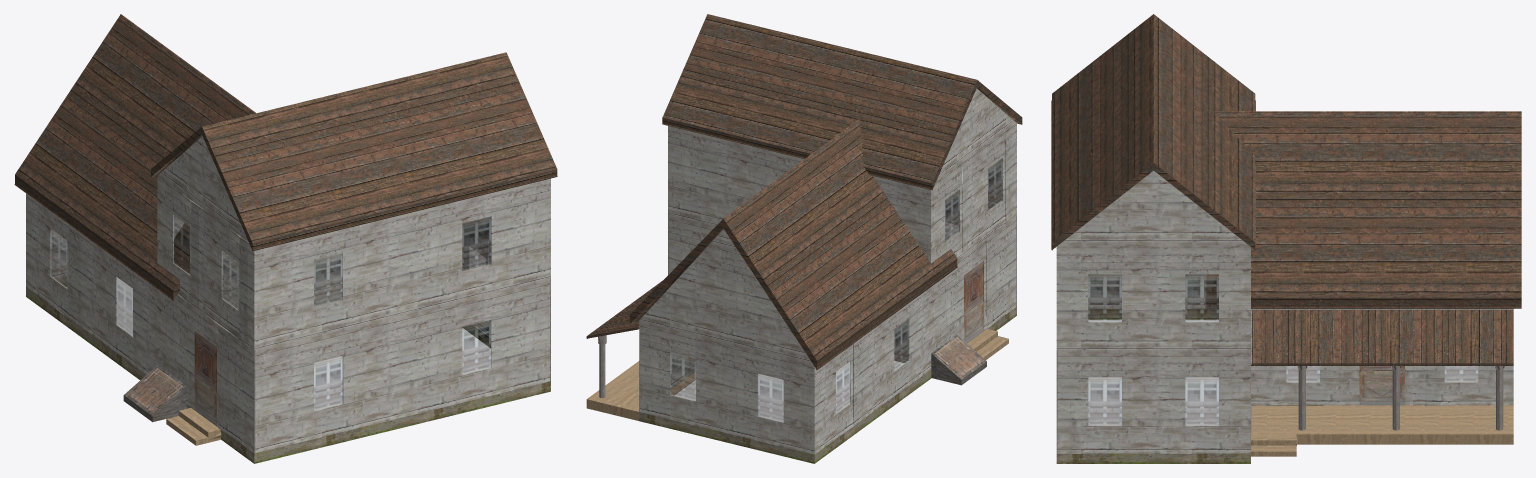
File: House_WithCollision.glb
The picture shows the model from 3 angles, left to right: view 1: azimuth 30°, elevation 25°; view 2: azimuth 150°, elevation 25°; view 3: azimuth 270°, elevation 25°; orthographic projection. The views are drawn at different scales.
Parts seen in each view (by area): view 1: PSX Abandoned House_Wood_0-col, PSX Abandoned House_Roof_0-col, PSX Abandoned House_Window_0-col, PSX Abandoned House_Slab_0-col, PSX Abandoned House_Door_0-col, PSX Abandoned House_BasementDoor_0-col, PSX Abandoned House_OutDoor Wood_0-col, PSX Abandoned House_BasementWood_0-col; view 2: PSX Abandoned House_Roof_0-col, PSX Abandoned House_Wood_0-col, PSX Abandoned House_Window_0-col, PSX Abandoned House_Slab_0-col, PSX Abandoned House_OutDoor Wood_0-col, PSX Abandoned House_Door_0-col, PSX Abandoned House_BasementDoor_0-col, PSX Abandoned House_BasementWood_0-col, PSX Abandoned House_Concrete_0-col; view 3: PSX Abandoned House_Roof_0-col, PSX Abandoned House_Wood_0-col, PSX Abandoned House_OutDoor Wood_0-col, PSX Abandoned House_Window_0-col, PSX Abandoned House_Slab_0-col, PSX Abandoned House_Concrete_0-col, PSX Abandoned House_Door_0-col.
Part boxes in pixels (x1,y1,x2,y2): PSX Abandoned House_Wood_0-col: (26,136,550,453); PSX Abandoned House_Roof_0-col: (14,14,557,300); PSX Abandoned House_Window_0-col: (50,215,491,411); PSX Abandoned House_Slab_0-col: (26,277,550,463); PSX Abandoned House_Door_0-col: (194,331,216,425); PSX Abandoned House_BasementDoor_0-col: (127,367,182,412); PSX Abandoned House_OutDoor Wood_0-col: (166,408,221,445); PSX Abandoned House_BasementWood_0-col: (123,365,186,422); PSX Abandoned House_Roof_0-col: (586,14,1022,370); PSX Abandoned House_Wood_0-col: (639,88,1016,454); PSX Abandoned House_Window_0-col: (670,158,1002,422); PSX Abandoned House_Slab_0-col: (639,307,1016,463); PSX Abandoned House_OutDoor Wood_0-col: (586,329,1008,420); PSX Abandoned House_Door_0-col: (688,261,983,376); PSX Abandoned House_BasementDoor_0-col: (935,337,983,376); PSX Abandoned House_BasementWood_0-col: (931,334,986,385); PSX Abandoned House_Concrete_0-col: (598,214,1016,411); PSX Abandoned House_Roof_0-col: (1051,14,1521,365); PSX Abandoned House_Wood_0-col: (1056,170,1513,453); PSX Abandoned House_OutDoor Wood_0-col: (1251,405,1513,456); PSX Abandoned House_Window_0-col: (1088,274,1478,426); PSX Abandoned House_Slab_0-col: (1056,309,1250,463); PSX Abandoned House_Concrete_0-col: (1056,274,1513,453); PSX Abandoned House_Door_0-col: (1359,366,1404,405).
Bounding box in the file's own units: 6.77 × 5.86 × 8.23.
Materials: 9 (9 with a texture image).
